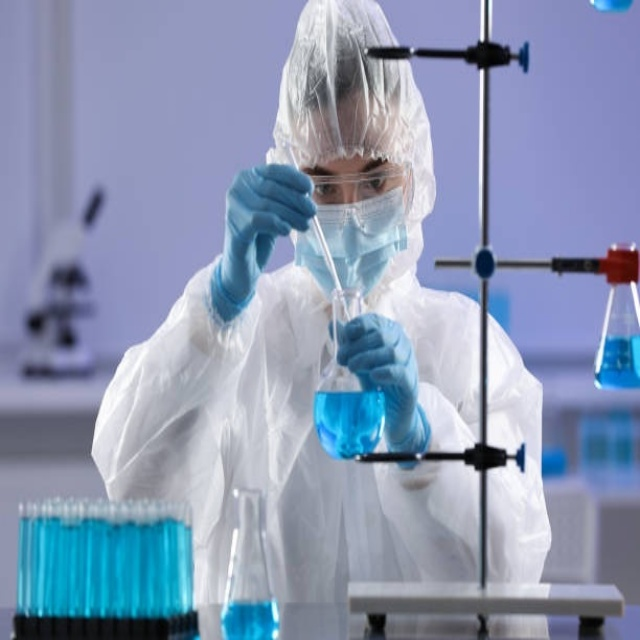Gafas: (301, 162, 411, 238)
Guantes: (211, 161, 316, 323), (334, 310, 426, 456)
Mascara: (298, 179, 411, 303)
